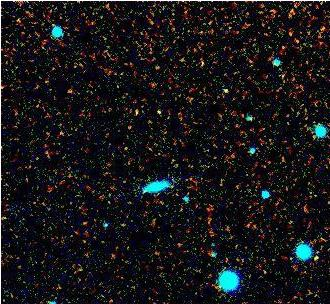star: (300, 245, 330, 275)
